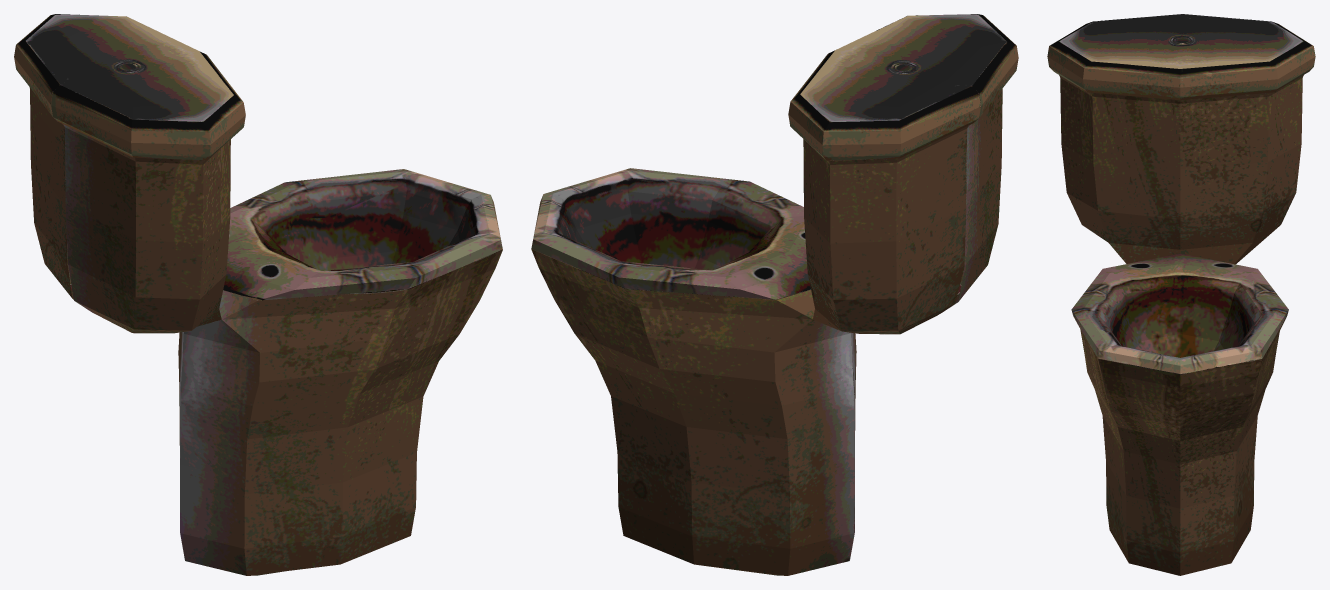
File: Privada.fbx
3 renders of one model, left to right at view 1: azimuth 30°, elevation 25°; view 2: azimuth 150°, elevation 25°; view 3: azimuth 270°, elevation 25°, orthographic. The views are drawn at different scales.
Visible parts, largest first — view 1: Privada; view 2: Privada; view 3: Privada.
Boxes of the visible parts, box(x1,y1,x2,y2) form: Privada: box(14, 14, 502, 575); Privada: box(531, 14, 1018, 575); Privada: box(1047, 14, 1315, 575).
Bounding box in the file's own units: 109 × 123 × 69.13.
Materials: 1 (1 with a texture image).
